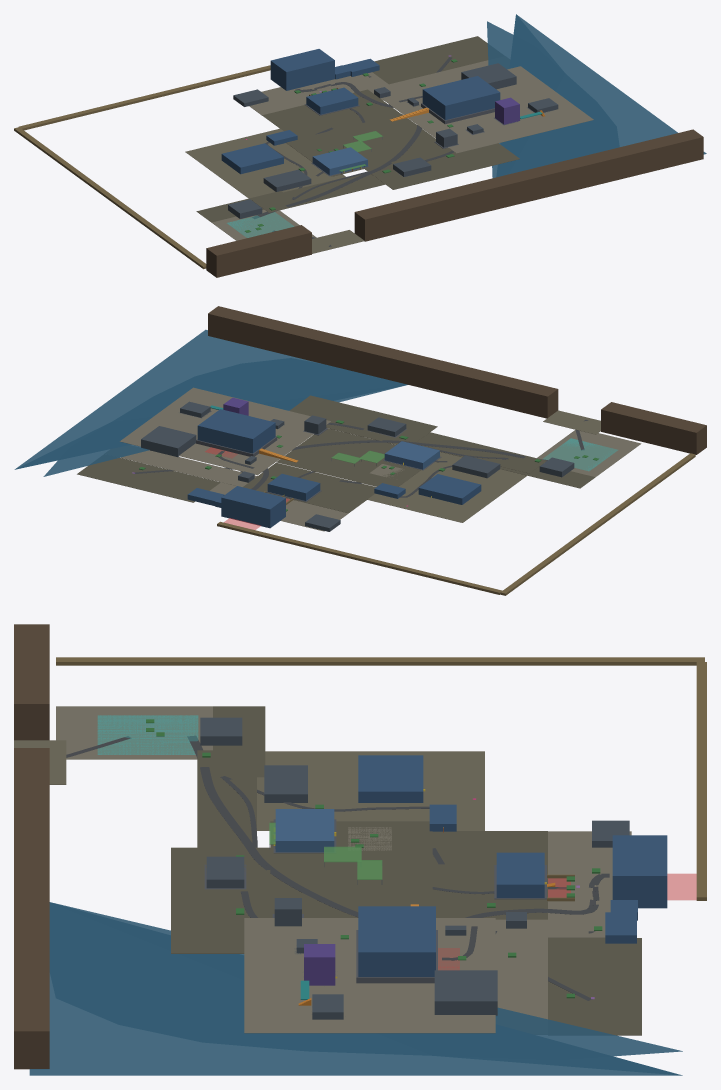
File: blockout-full.glb
3 renders of one model, top to bottom at view 1: azimuth 30°, elevation 25°; view 2: azimuth 150°, elevation 25°; view 3: azimuth 270°, elevation 25°, orthographic. The views are drawn at different scales.
Parts seen in each view (by area): view 1: blockout-full-v1; view 2: blockout-full-v1; view 3: blockout-full-v1.
Boxes of the visible parts, x1,y1,x2,y2 form: blockout-full-v1: (14, 14, 706, 277); blockout-full-v1: (14, 306, 706, 595); blockout-full-v1: (14, 624, 706, 1075).
Bounding box in the file's own units: 937 × 54 × 662.
